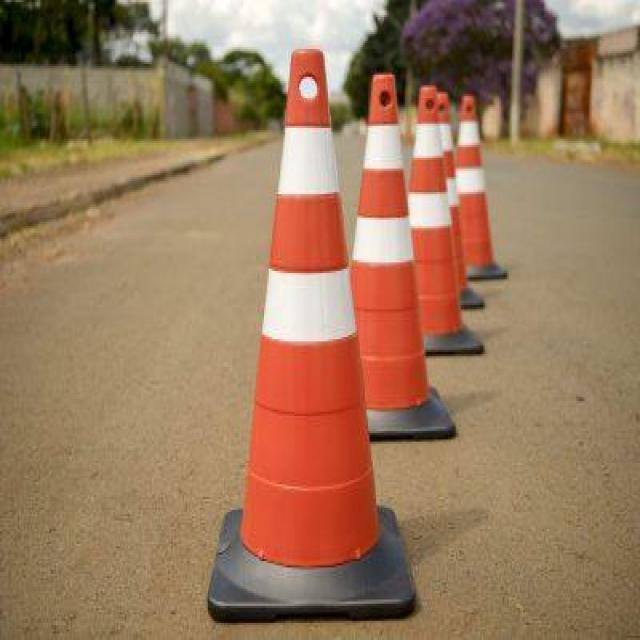cone: (212, 51, 413, 606), (355, 62, 446, 433), (404, 82, 482, 343)
